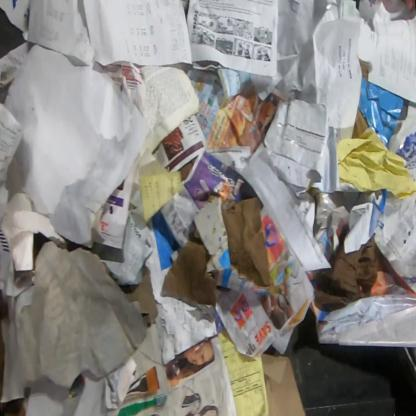cardboard: (0, 240, 148, 392), (192, 194, 280, 303), (314, 233, 414, 313), (88, 154, 139, 250), (160, 231, 216, 307), (306, 187, 362, 262), (358, 75, 406, 149), (261, 352, 308, 415), (117, 262, 158, 324), (352, 108, 368, 139)
